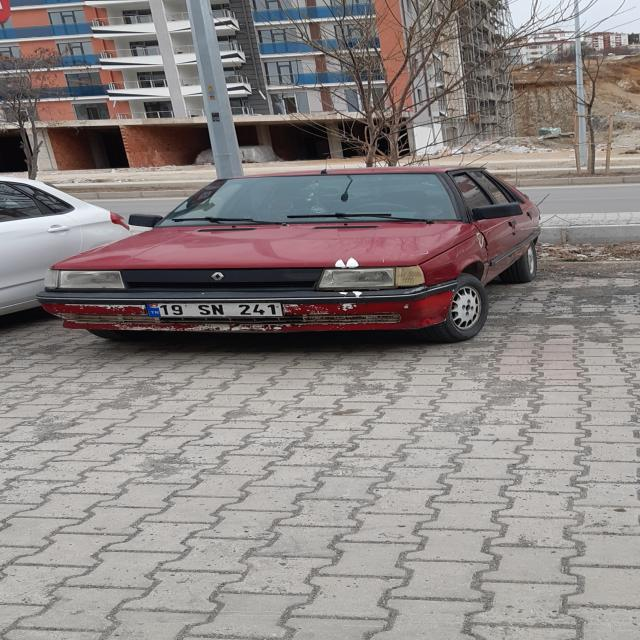plate: (144, 302, 286, 317)
